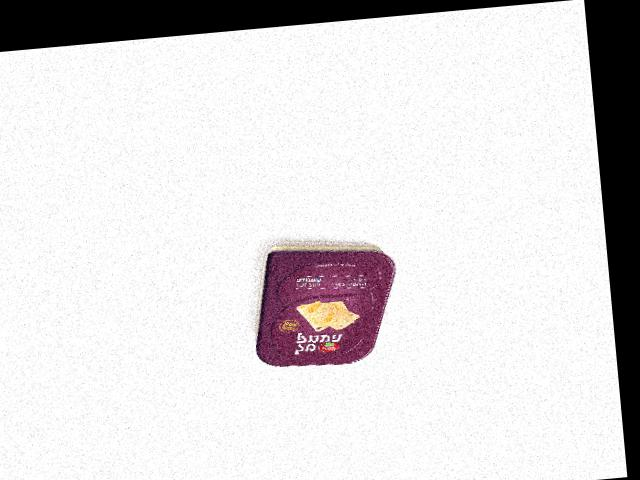cheese: (246, 232, 404, 373)
